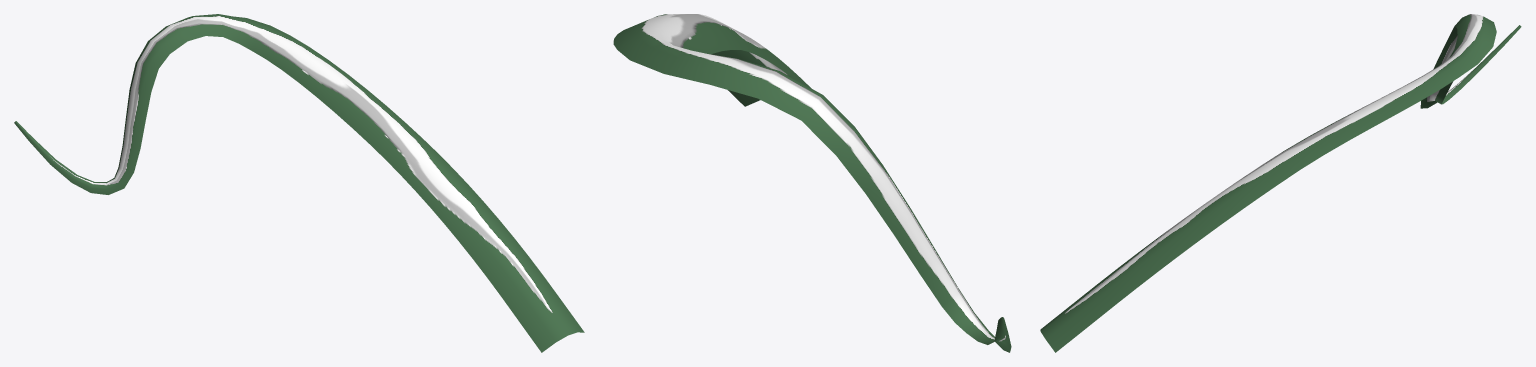
The model's file is xuli_3.FBX.
3 renders of one model, left to right at view 1: azimuth 30°, elevation 25°; view 2: azimuth 150°, elevation 25°; view 3: azimuth 270°, elevation 25°, orthographic. The views are drawn at different scales.
Parts seen in each view (by area): view 1: Plane005; view 2: Plane005; view 3: Plane005.
Boxes of the visible parts, x1=… form: Plane005: x1=14, y1=14, x2=584, y2=352; Plane005: x1=613, y1=14, x2=1011, y2=352; Plane005: x1=1040, y1=14, x2=1521, y2=352.
Bounding box in the file's own units: 289 × 173 × 322.
